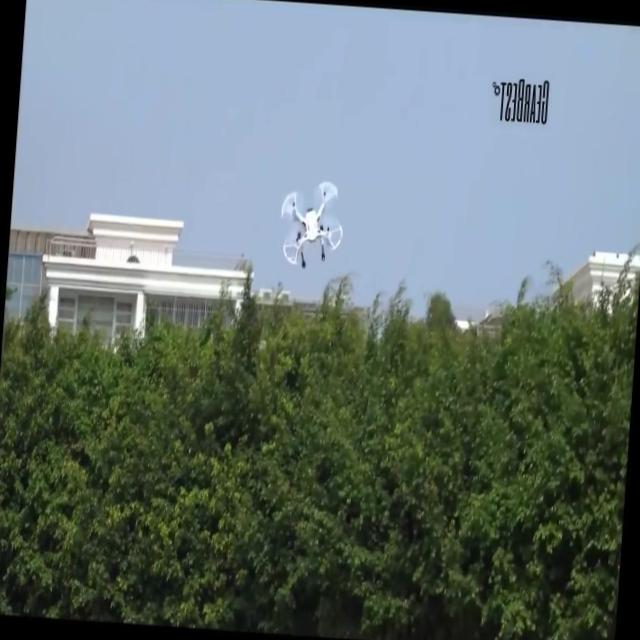drone: (276, 177, 348, 270)
